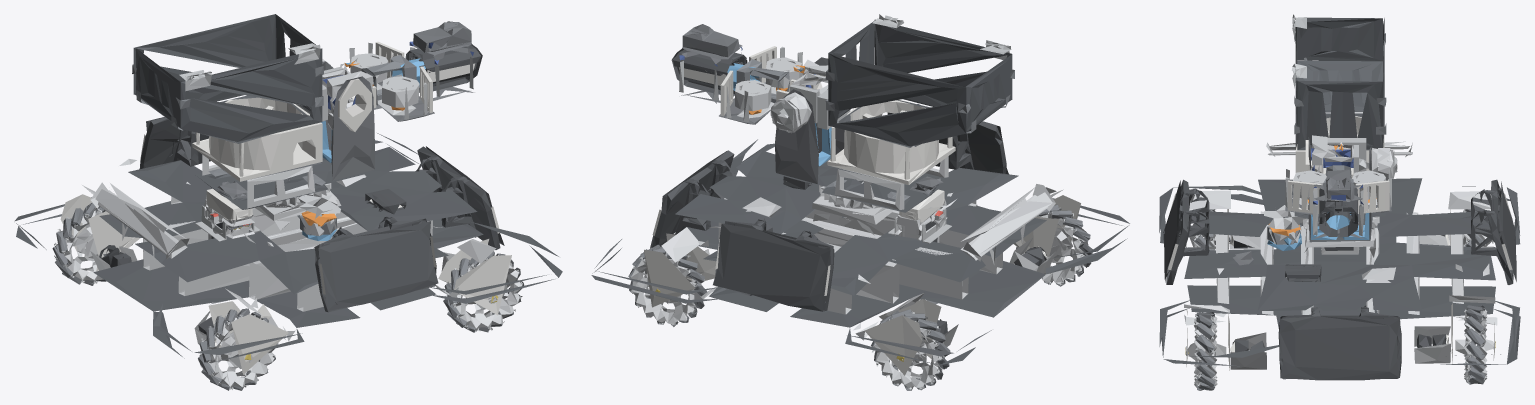
Rendered from qkrt-lo.glb.
3 renders of one model, left to right at view 1: azimuth 30°, elevation 25°; view 2: azimuth 150°, elevation 25°; view 3: azimuth 270°, elevation 25°, orthographic. The views are drawn at different scales.
Visible parts, largest first — view 1: base_carbon, yaw_carbon, base_alu, armorR_black, base_white, yaw_print, yaw_dark, armorF_black, yaw_alu, armorL_black, pitch_alu, pitch_dark (+16 smaller); view 2: base_carbon, yaw_carbon, base_alu, armorL_black, base_white, yaw_print, yaw_dark, pitch_alu, armorF_black, yaw_alu, armorR_black, pitch_dark (+16 smaller); view 3: base_carbon, yaw_carbon, base_alu, armorF_black, armorR_black, armorL_black, pitch_print, pitch_alu, pitch_steel, base_black, pitch_dark, pitch_black (+11 smaller).
Boxes of the visible parts, bbox=[...] form: base_carbon: bbox=[14, 133, 562, 362]; yaw_carbon: bbox=[133, 14, 374, 209]; base_alu: bbox=[76, 159, 497, 368]; armorR_black: bbox=[314, 216, 438, 312]; base_white: bbox=[60, 194, 511, 374]; yaw_print: bbox=[192, 97, 322, 181]; yaw_dark: bbox=[217, 61, 374, 199]; armorF_black: bbox=[415, 146, 504, 249]; yaw_alu: bbox=[186, 71, 372, 208]; armorL_black: bbox=[139, 117, 210, 169]; pitch_alu: bbox=[322, 53, 419, 115]; pitch_dark: bbox=[322, 21, 474, 121]; base_carbon: bbox=[591, 139, 1129, 364]; yaw_carbon: bbox=[776, 19, 1012, 212]; base_alu: bbox=[660, 153, 1073, 362]; armorL_black: bbox=[713, 218, 834, 311]; base_white: bbox=[644, 195, 1080, 375]; yaw_print: bbox=[827, 99, 955, 184]; yaw_dark: bbox=[775, 57, 943, 194]; pitch_alu: bbox=[735, 57, 828, 133]; armorF_black: bbox=[650, 150, 735, 248]; yaw_alu: bbox=[802, 59, 948, 209]; armorR_black: bbox=[887, 104, 1008, 174]; pitch_dark: bbox=[681, 24, 770, 124]; base_carbon: bbox=[1159, 178, 1520, 366]; yaw_carbon: bbox=[1294, 17, 1385, 242]; base_alu: bbox=[1184, 141, 1497, 369]; armorF_black: bbox=[1278, 305, 1401, 380]; armorR_black: bbox=[1163, 179, 1209, 284]; armorL_black: bbox=[1471, 179, 1516, 284]; pitch_print: bbox=[1287, 140, 1389, 213]; pitch_alu: bbox=[1292, 142, 1397, 204]; pitch_steel: bbox=[1285, 138, 1397, 236]; base_black: bbox=[1229, 235, 1448, 352]; pitch_dark: bbox=[1285, 169, 1391, 239]; pitch_black: bbox=[1319, 188, 1357, 236].
Size of the model in its own units: 0.7741 by 0.549 by 0.6921.
